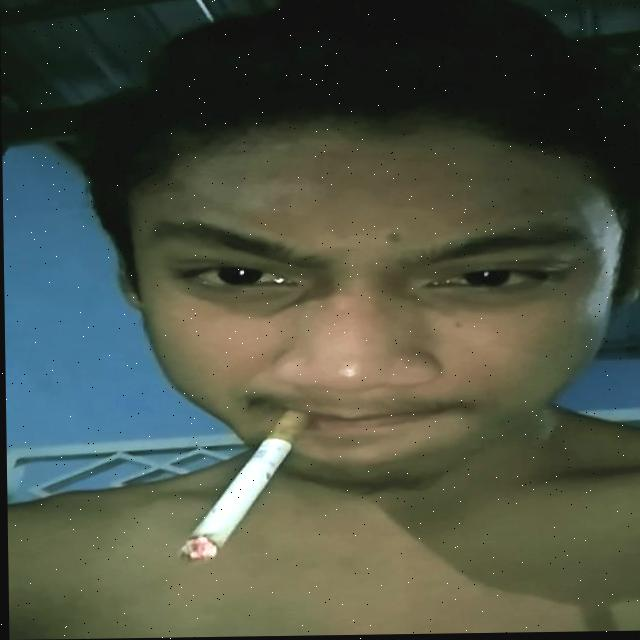cigarette: (175, 414, 312, 563)
